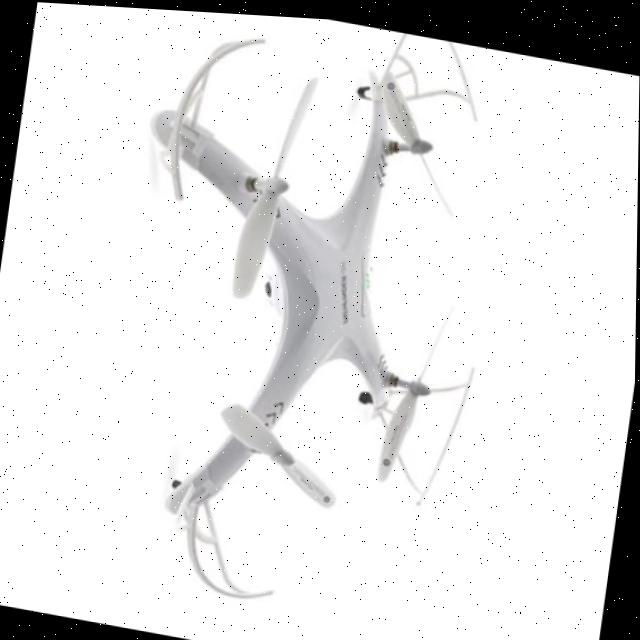drones: (76, 4, 538, 640)
